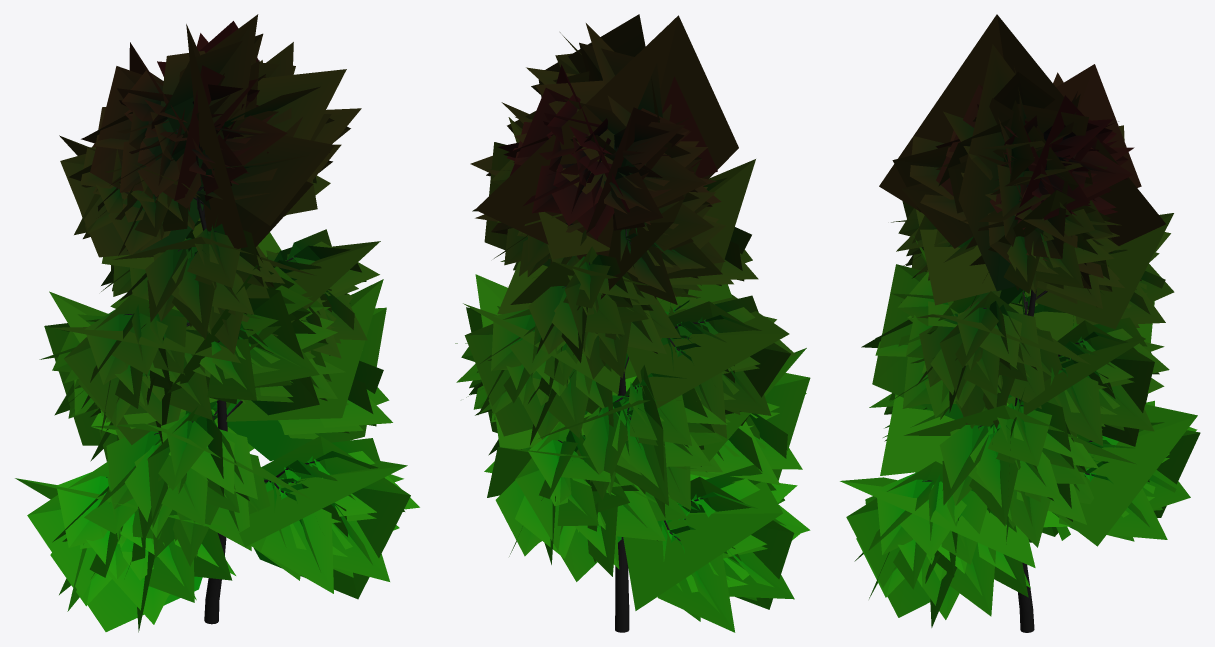
Rendered from birch_tree_2.FBX.
The picture shows the model from 3 angles, left to right: view 1: azimuth 30°, elevation 25°; view 2: azimuth 150°, elevation 25°; view 3: azimuth 270°, elevation 25°; orthographic projection. The views are drawn at different scales.
Visible parts, largest first — view 1: birch_leaves_lod_0, birch_leaves_shadow, birch_trunk_lod_0; view 2: birch_leaves_lod_0, birch_leaves_shadow, birch_trunk_lod_0; view 3: birch_leaves_lod_0, birch_leaves_shadow, birch_trunk_lod_0.
Boxes of the visible parts, <box> form: birch_leaves_lod_0: <box>39,14,419,632</box>; birch_leaves_shadow: <box>15,21,410,631</box>; birch_trunk_lod_0: <box>204,400,227,624</box>; birch_leaves_lod_0: <box>455,23,810,632</box>; birch_leaves_shadow: <box>463,14,810,610</box>; birch_trunk_lod_0: <box>615,371,629,632</box>; birch_leaves_lod_0: <box>854,66,1197,627</box>; birch_leaves_shadow: <box>840,14,1200,617</box>; birch_trunk_lod_0: <box>1015,289,1036,632</box>.
Size of what is drawn, in the model's own units: 4.19 by 7.1 by 3.9.
